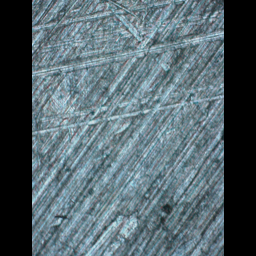d: (33, 0, 224, 141)
